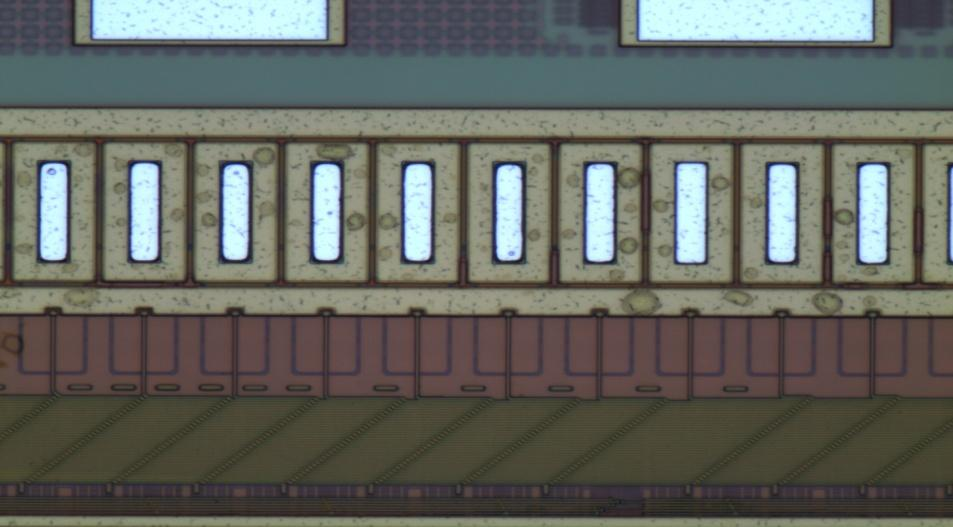PO CONTAMINATION: (7, 135, 889, 317)
